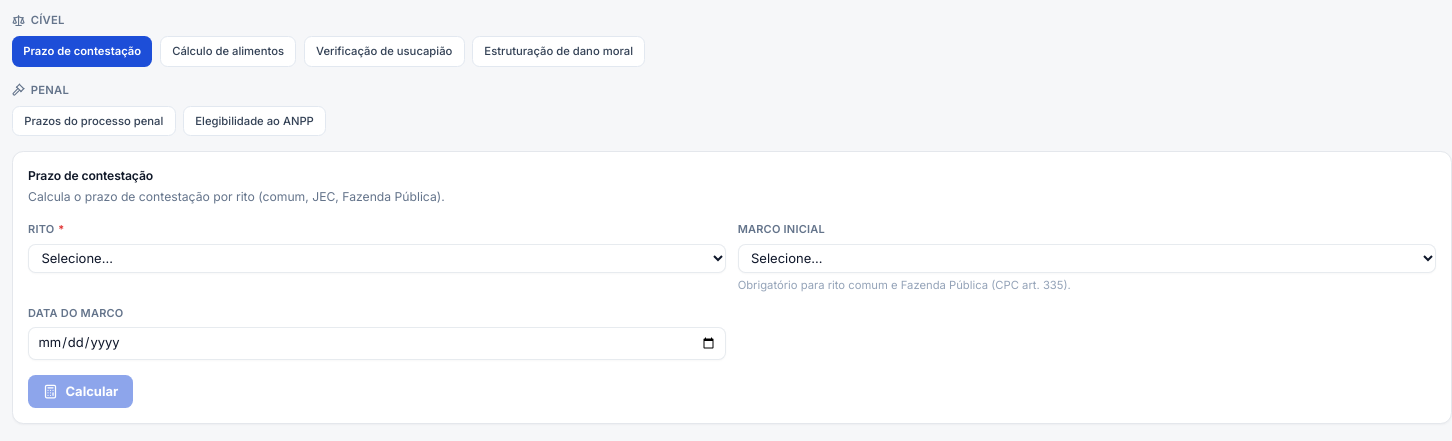
CalculadorasJuridicas — lista e seleção › campo condicional: selecionar rito=jec esconde marco e data do marco
Expected: the text "Marco inicial" is shown, [738,222,825,236]
Select "Juizado Especial Cível" in the 1st dropdown at [377, 258], box [28,244,726,273]
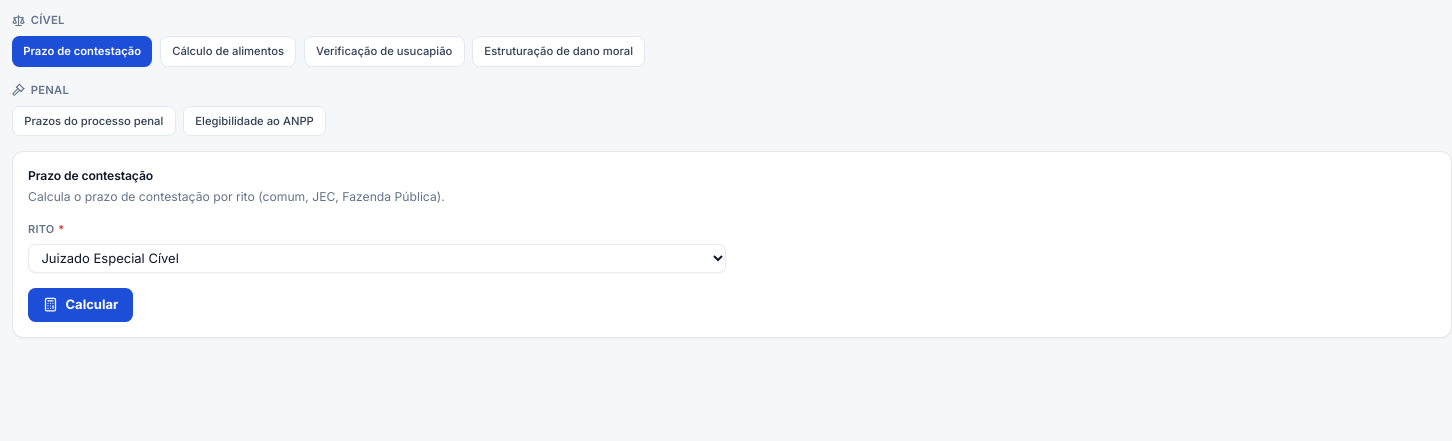
Now the text "Marco inicial" is gone
Now the text "Data do marco" is gone
